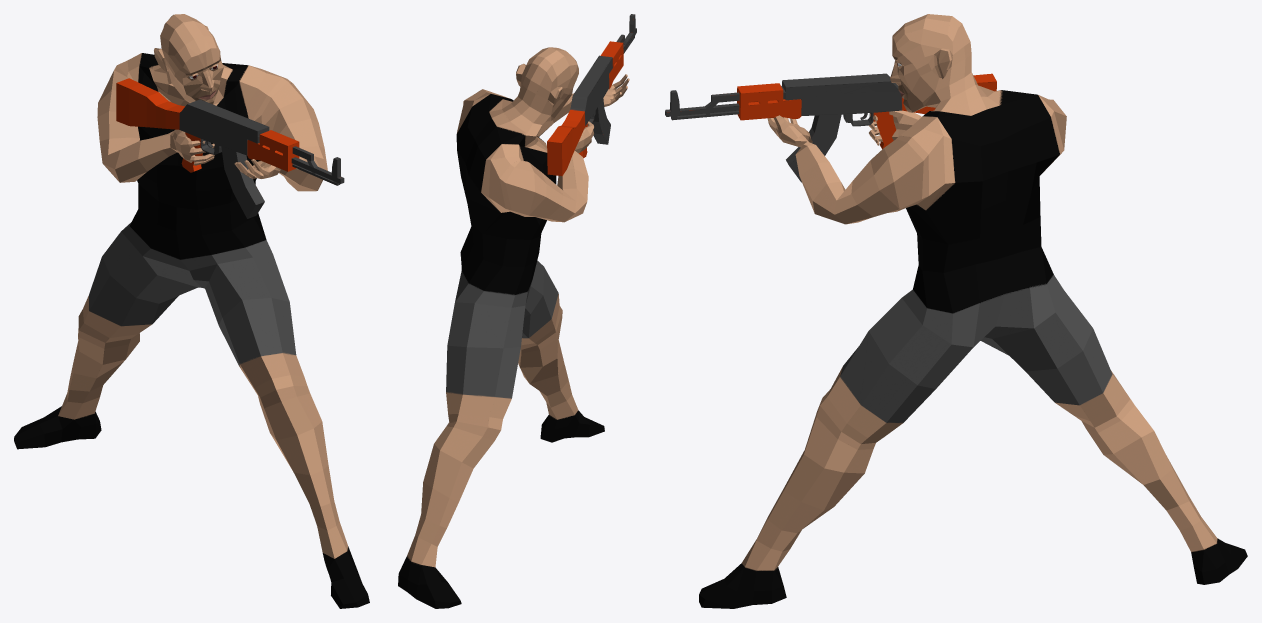
The model's file is PlayerShoot(4).obj.
The picture shows the model from 3 angles, left to right: view 1: azimuth 30°, elevation 25°; view 2: azimuth 150°, elevation 25°; view 3: azimuth 270°, elevation 25°; orthographic projection. The views are drawn at different scales.
Visible parts, largest first — view 1: Plane002, Object001; view 2: Plane002, Object001; view 3: Plane002, Object001.
Part boxes in pixels (<box>): Plane002: <box>14,14,369,608</box>; Object001: <box>116,78,344,218</box>; Plane002: <box>398,47,629,608</box>; Object001: <box>547,14,636,176</box>; Plane002: <box>699,14,1247,608</box>; Object001: <box>665,73,996,182</box>.
Bounding box in the file's own units: 544 × 1636 × 1562.
